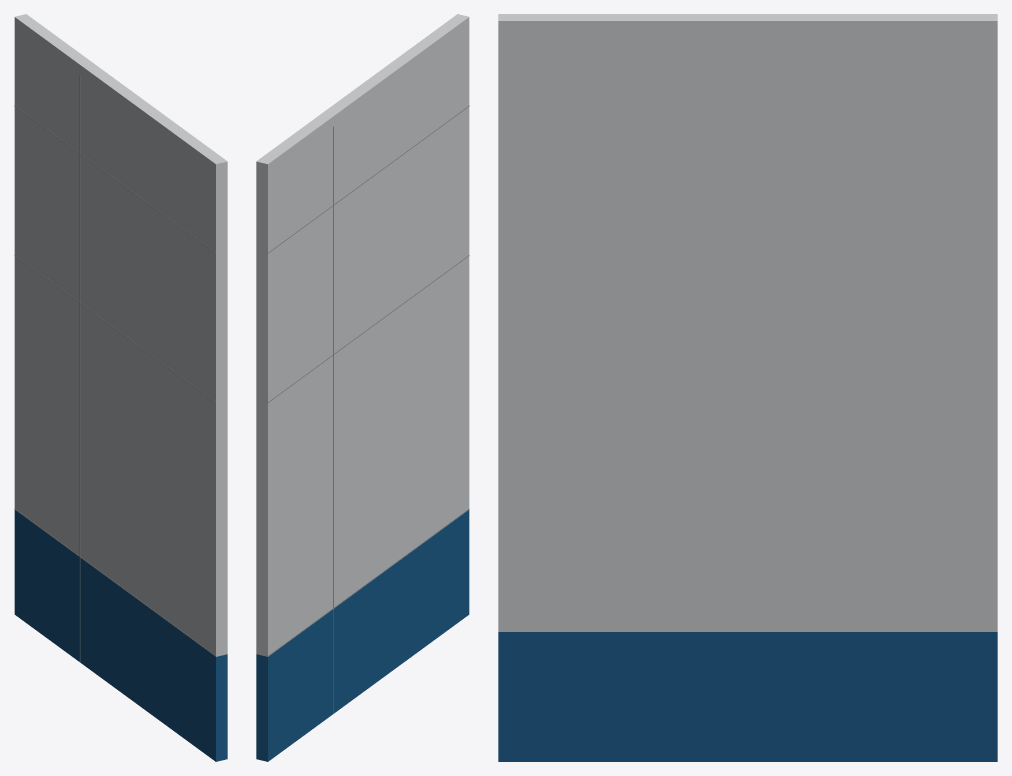
The model's file is SM_MPR3_Facade_03.fbx.
The picture shows the model from 3 angles, left to right: view 1: azimuth 30°, elevation 25°; view 2: azimuth 150°, elevation 25°; view 3: azimuth 270°, elevation 25°; orthographic projection. The views are drawn at different scales.
Visible parts, largest first — view 1: SM_MPR3_Facade_03; view 2: SM_MPR3_Facade_03; view 3: SM_MPR3_Facade_03.
Boxes of the visible parts, left/top/right/bottom form: SM_MPR3_Facade_03: left=14, top=14, right=227, bottom=761; SM_MPR3_Facade_03: left=256, top=14, right=469, bottom=761; SM_MPR3_Facade_03: left=498, top=14, right=997, bottom=761.
Size of the model in its own units: 31.44 by 904 by 1480.
